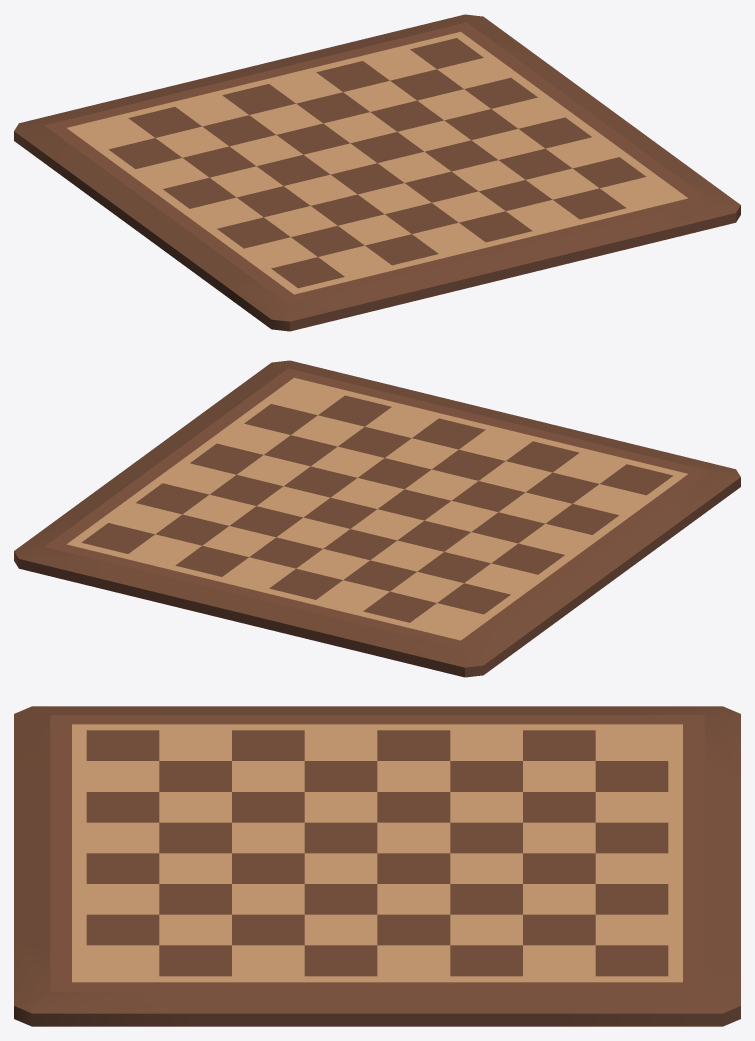
File: board_A.obj
3 views of the same model, one above another, from view 1: azimuth 30°, elevation 25°; view 2: azimuth 150°, elevation 25°; view 3: azimuth 270°, elevation 25° (orthographic). The views are drawn at different scales.
Parts seen in each view (by area): view 1: board_A; view 2: board_A; view 3: board_A.
Part boxes in pixels (x1,y1,x2,y2): board_A: [14, 14, 740, 331]; board_A: [14, 360, 740, 677]; board_A: [14, 706, 740, 1026].
Size of the model in its own units: 10 by 0.3 by 10.
1 material, 1 textured.
